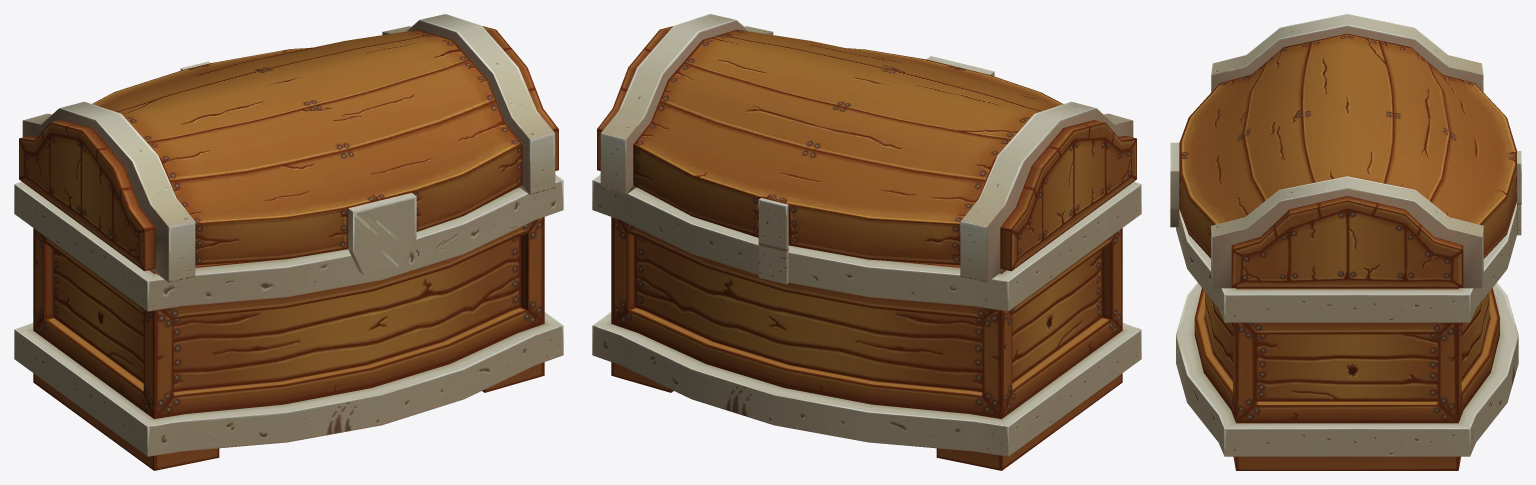
3 renders of one model, left to right at view 1: azimuth 30°, elevation 25°; view 2: azimuth 150°, elevation 25°; view 3: azimuth 270°, elevation 25°, orthographic. The views are drawn at different scales.
Parts seen in each view (by area): view 1: Mesh_ChestBase_Material #2_0, Mesh_ChestLid_Material #2_0; view 2: Mesh_ChestBase_Material #2_0, Mesh_ChestLid_Material #2_0; view 3: Mesh_ChestLid_Material #2_0, Mesh_ChestBase_Material #2_0.
Boxes of the visible parts, left/top/right/bottom form: Mesh_ChestBase_Material #2_0: left=14, top=174, right=563, bottom=470; Mesh_ChestLid_Material #2_0: left=19, top=14, right=558, bottom=282; Mesh_ChestBase_Material #2_0: left=592, top=174, right=1141, bottom=470; Mesh_ChestLid_Material #2_0: left=597, top=14, right=1136, bottom=282; Mesh_ChestLid_Material #2_0: left=1170, top=14, right=1521, bottom=288; Mesh_ChestBase_Material #2_0: left=1176, top=202, right=1521, bottom=470.
Bounding box in the file's own units: 298 × 210 × 236.
1 material, 1 textured.
